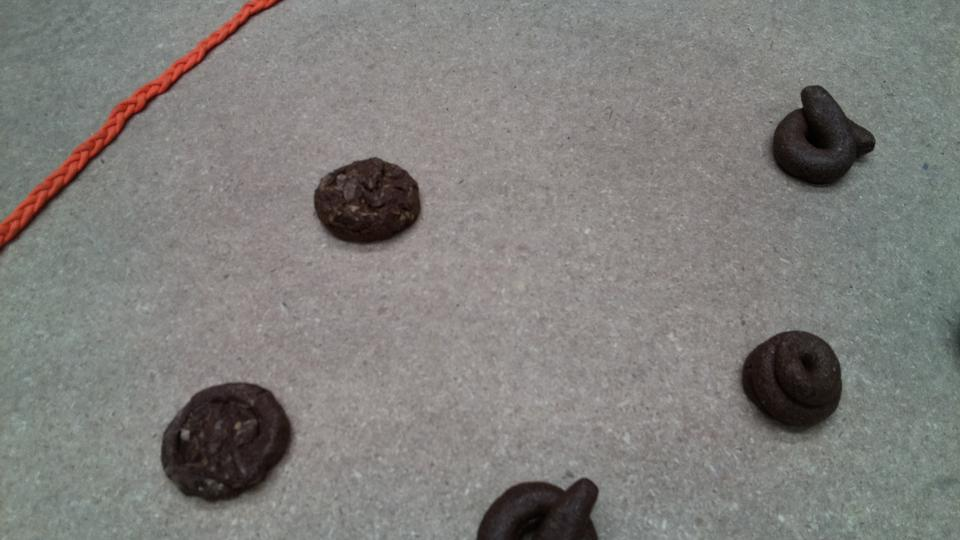poop: (157, 378, 297, 508), (738, 328, 847, 434), (770, 83, 878, 189), (308, 153, 425, 247), (472, 471, 607, 540)
rope: (1, 2, 271, 238)
